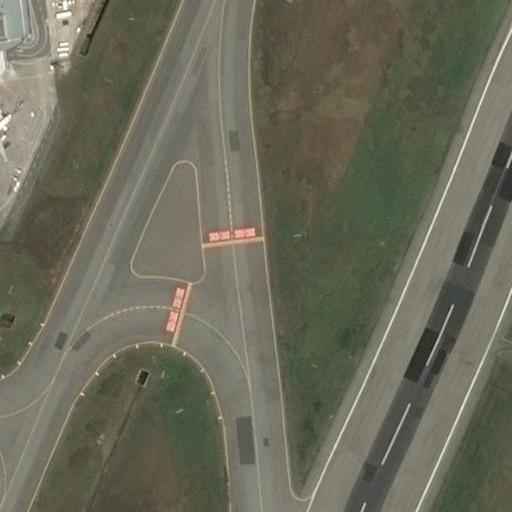Aircraft: (0, 108, 14, 169)
